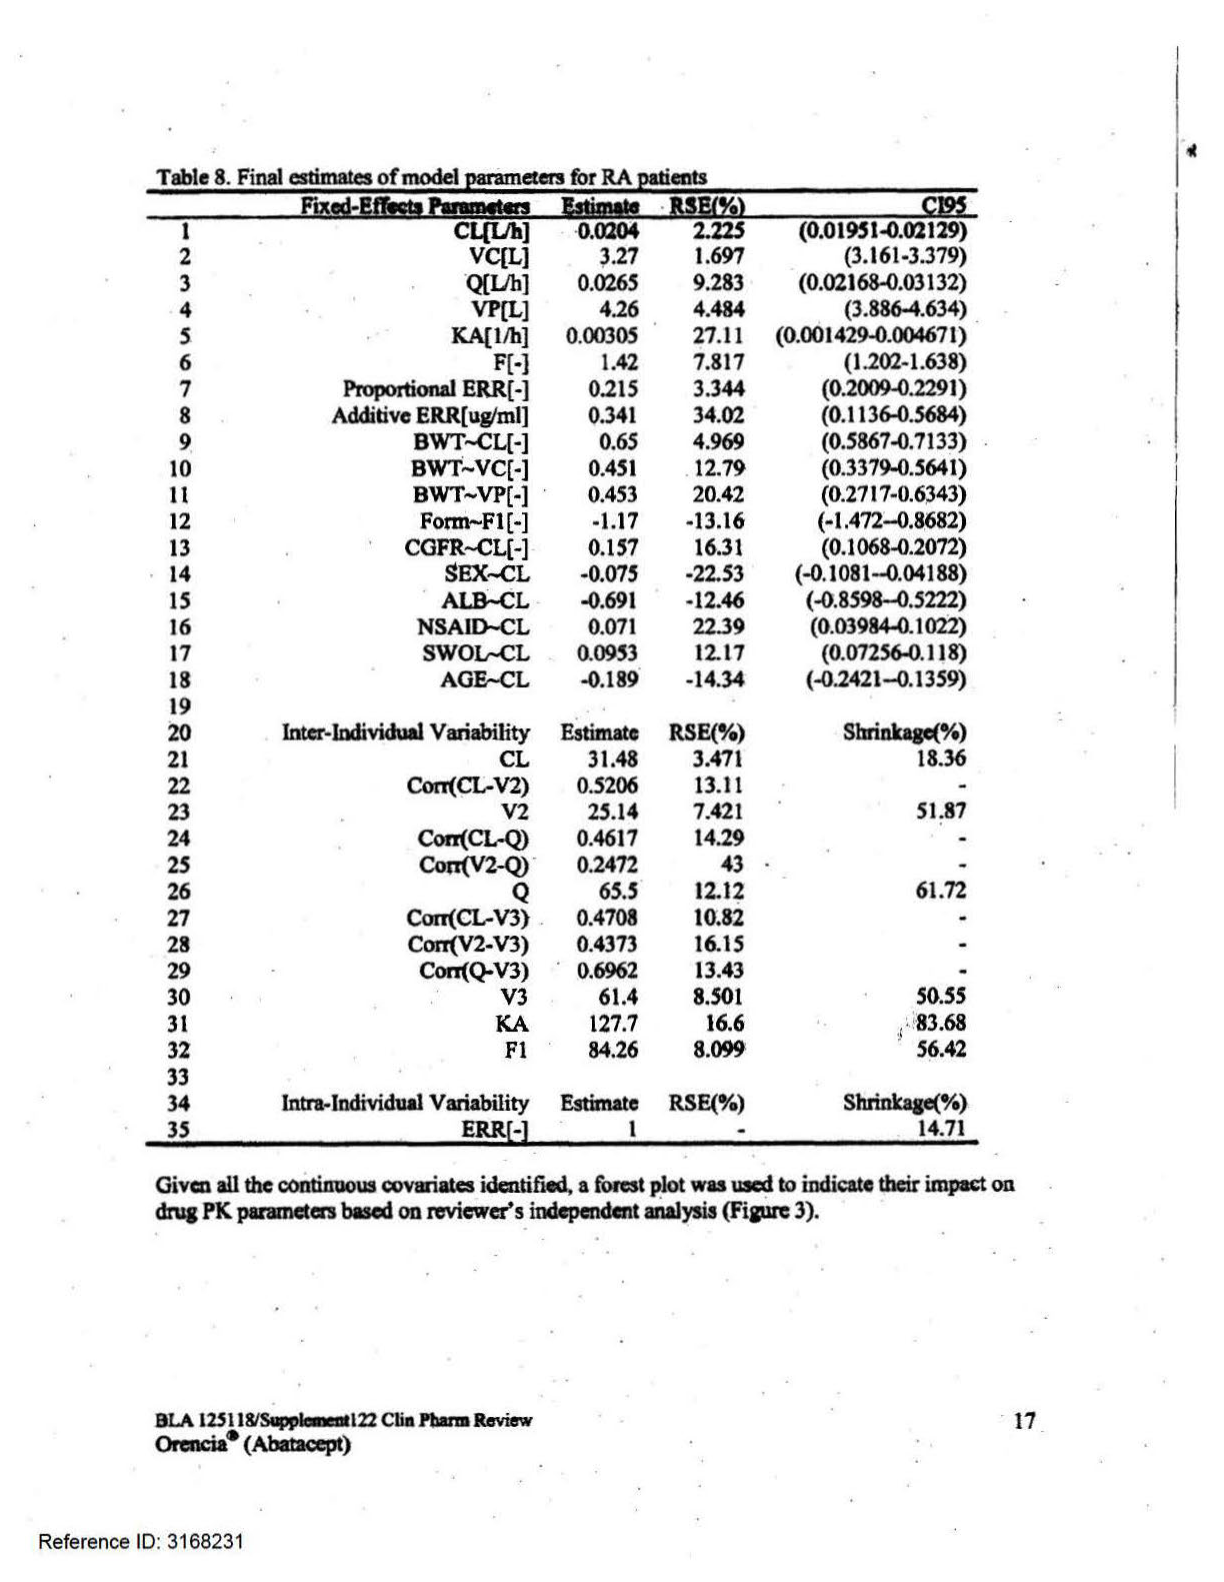partial_lined: (139, 187, 983, 1147)
